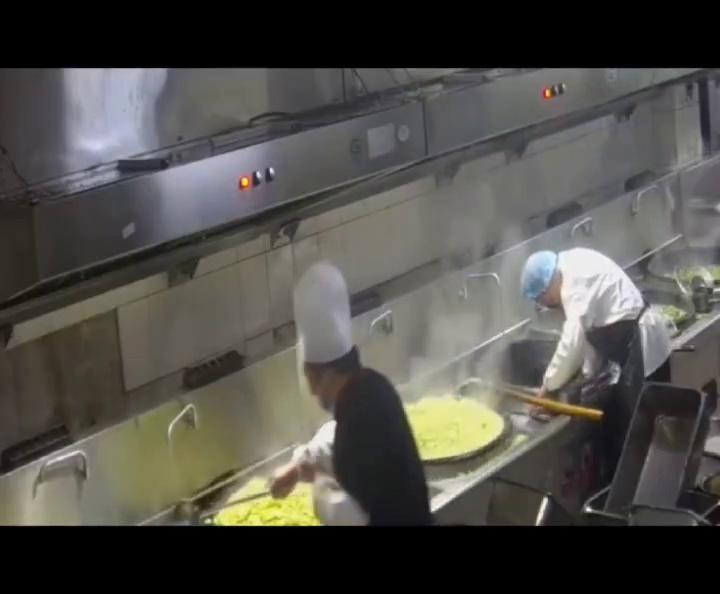gloves: (522, 253, 556, 301)
